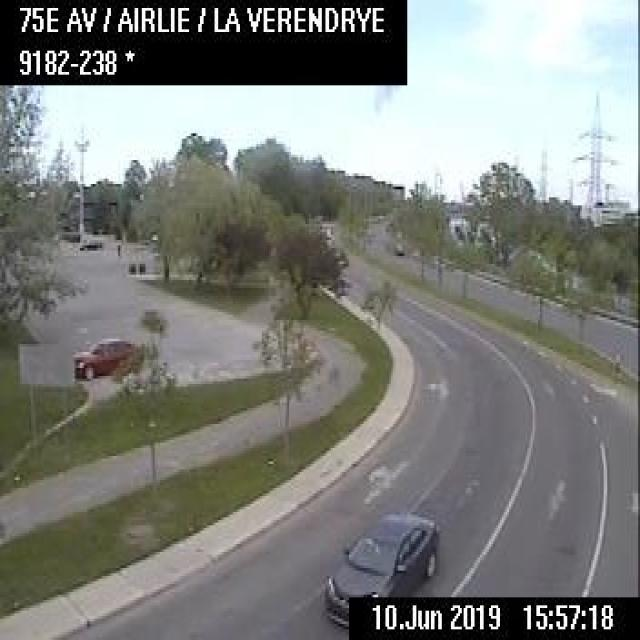vehicle: (322, 506, 438, 626), (70, 334, 138, 380), (78, 233, 102, 250)
